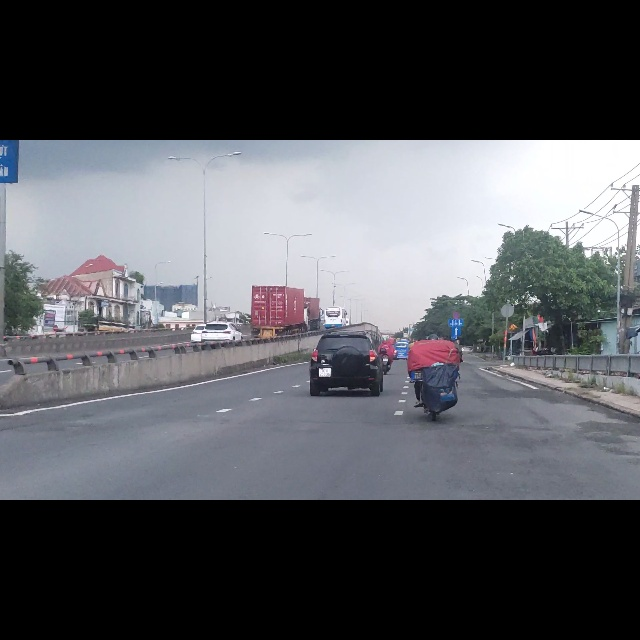bien_chi_dan: (452, 332, 461, 348), (453, 306, 460, 318)
